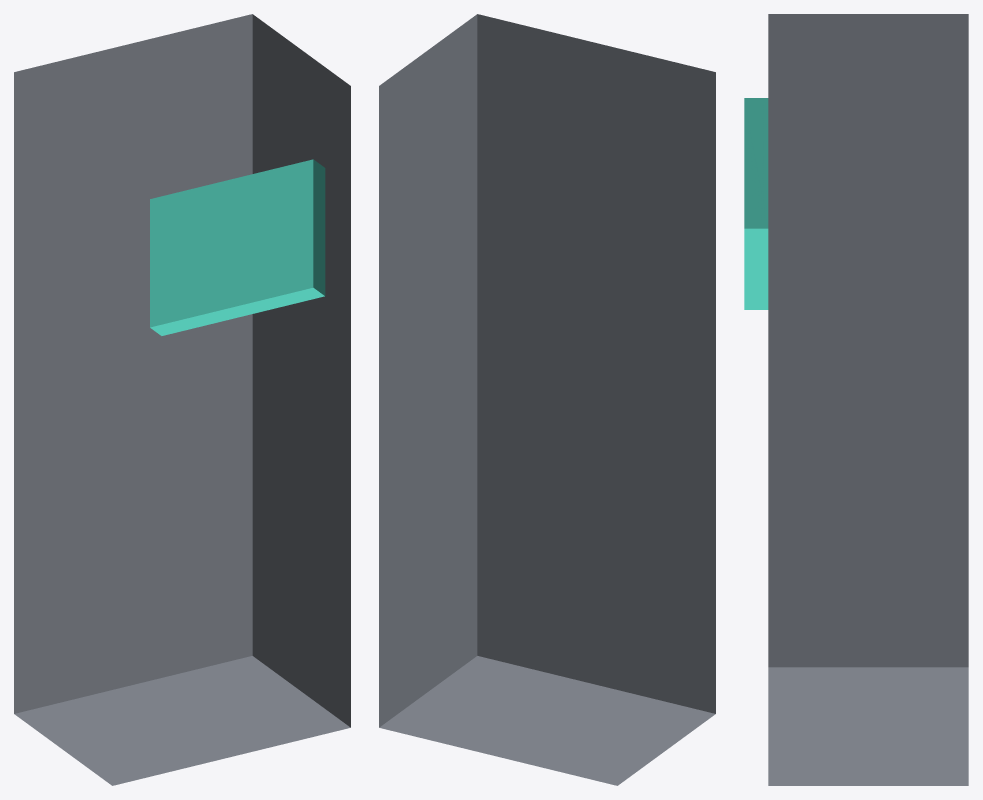
File: ev_charger.gltf
3 renders of one model, left to right at view 1: azimuth 30°, elevation 25°; view 2: azimuth 150°, elevation 25°; view 3: azimuth 270°, elevation 25°, orthographic.
Parts seen in each view (by area): view 1: body, panel; view 2: body; view 3: body, panel.
Boxes of the visible parts, x1,y1,x2,y2 form: body: (14, 14, 350, 785); panel: (150, 159, 325, 335); body: (379, 14, 715, 785); body: (768, 14, 968, 785); panel: (744, 98, 768, 309).
Bounding box in the file's own units: 0.35 × 0.9 × 0.28.
